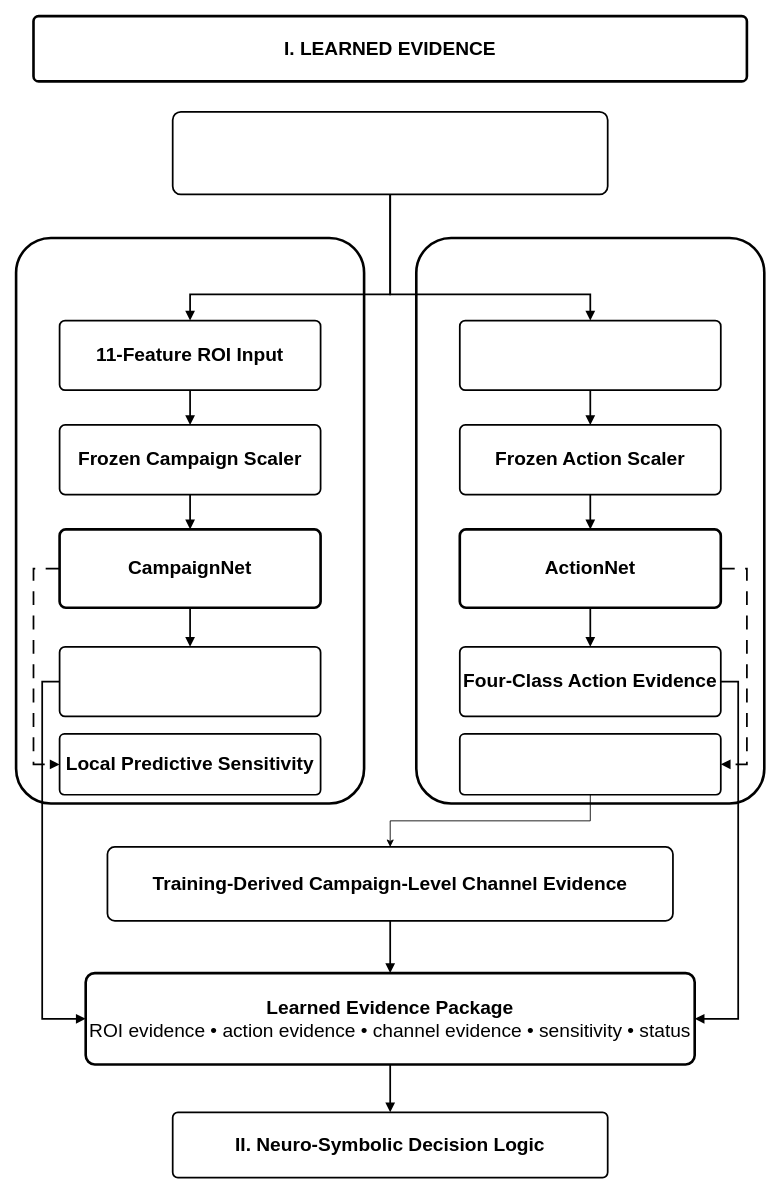
The diagram is 780 pixels wide and 1194 high, and some of its shapes have lost their labels. The box of each missing label's shape, as (x1, y1, x2, y2) in pixels:
13 Features + Intent One-Hot: (458, 319, 721, 391)
Action-Evidence Status Audited • development • fallback: (458, 733, 721, 795)
ACTIONNET ACTION BRANCH: (415, 236, 765, 804)
CAMPAIGNNET ROI BRANCH: (14, 236, 365, 804)
ROI Action Evidence: (58, 646, 321, 717)
Validated Decision Context Campaign features and selected intent: (171, 110, 608, 195)
